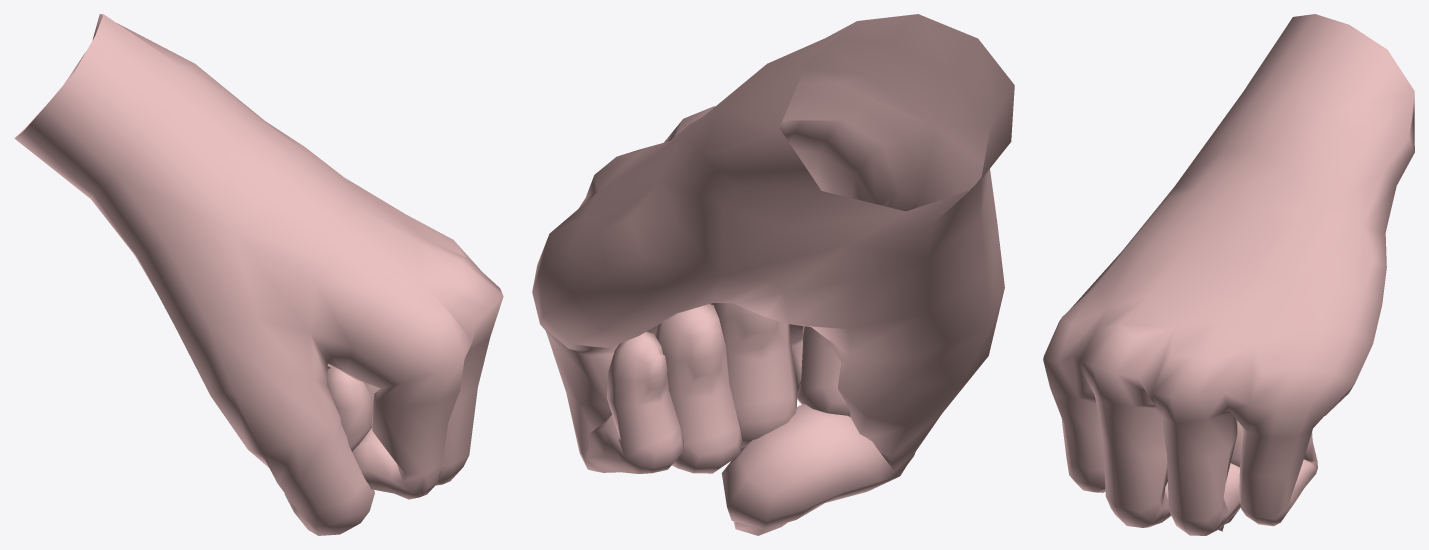
Rendered from Superhero_Female_A_Fist01.fbx.
3 renders of one model, left to right at view 1: azimuth 30°, elevation 25°; view 2: azimuth 150°, elevation 25°; view 3: azimuth 270°, elevation 25°, orthographic. The views are drawn at different scales.
Visible parts, largest first — view 1: Superhero_Female_A_Fist01; view 2: Superhero_Female_A_Fist01; view 3: Superhero_Female_A_Fist01.
Boxes of the visible parts, x1,y1,x2,y2 form: Superhero_Female_A_Fist01: [14, 14, 503, 535]; Superhero_Female_A_Fist01: [532, 14, 1014, 535]; Superhero_Female_A_Fist01: [1043, 14, 1414, 535].
Size of the model in its own units: 0.637 by 0.745 by 0.5765.
